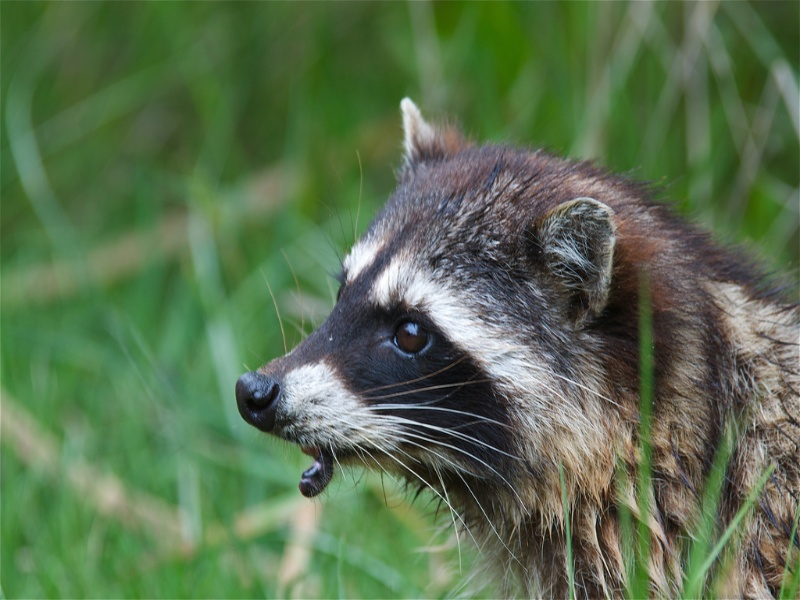raccoon: (236, 94, 789, 591)
